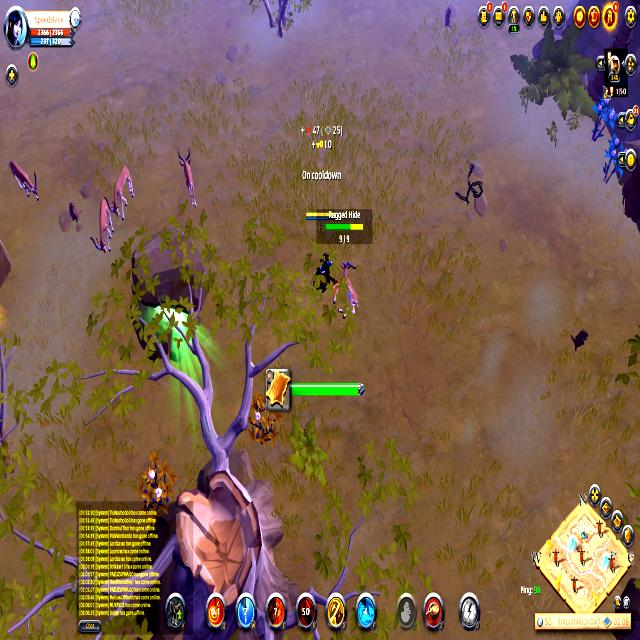hide: (135, 447, 178, 515), (245, 391, 283, 447), (600, 132, 633, 189), (589, 95, 617, 151)
mob: (331, 256, 361, 326)
ore: (174, 139, 203, 213), (6, 155, 45, 210), (110, 158, 136, 226), (90, 192, 112, 266)
red: (302, 204, 338, 300)
